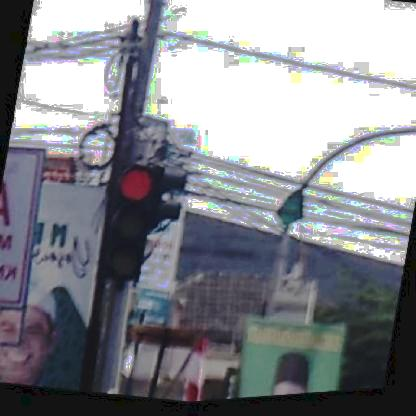Traffic Light -Red-: (98, 163, 160, 289)
